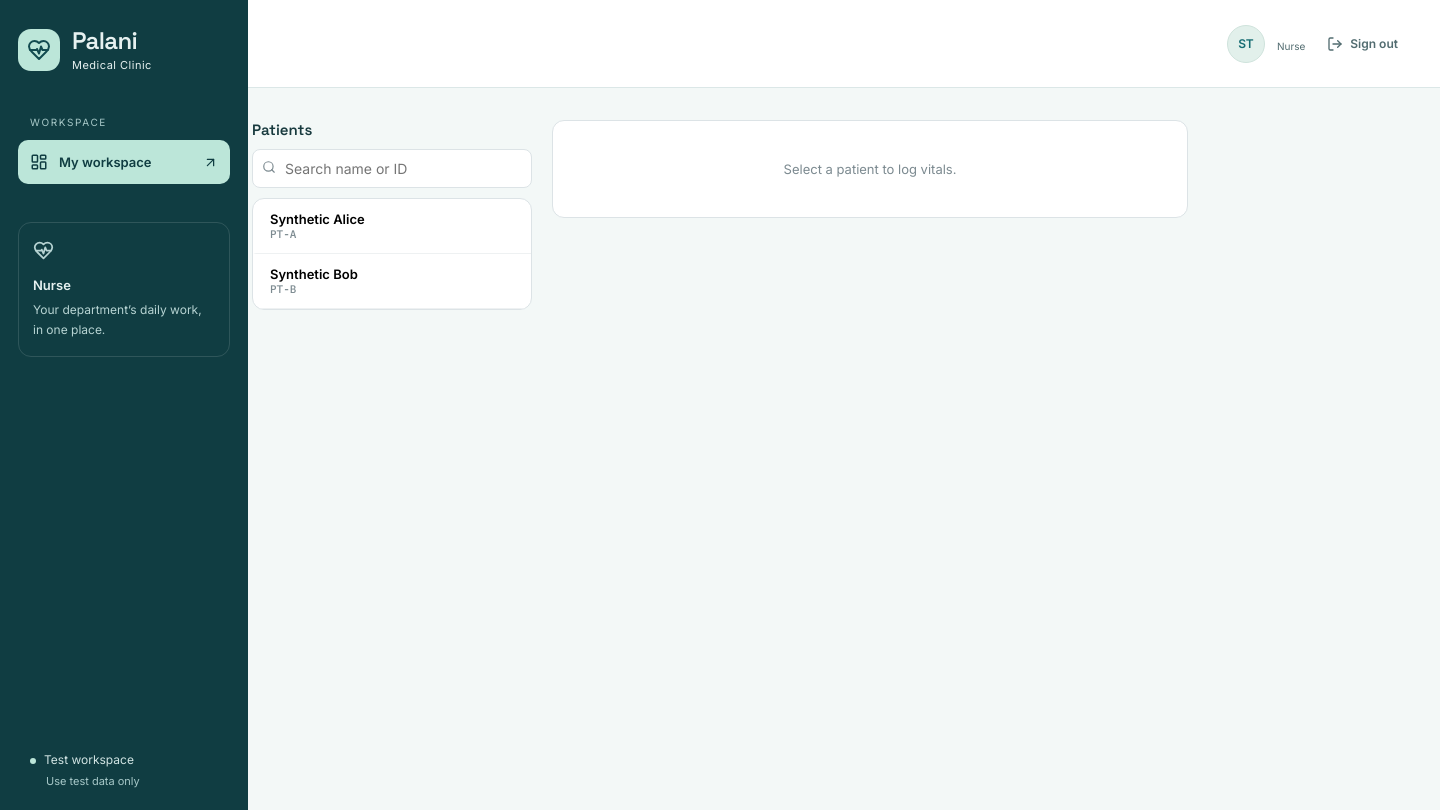
Test: discards late history for another patient
Click the button with aria-label "Select Synthetic Alice (PT-A)" at point(317, 219), box [253,199,531,254]
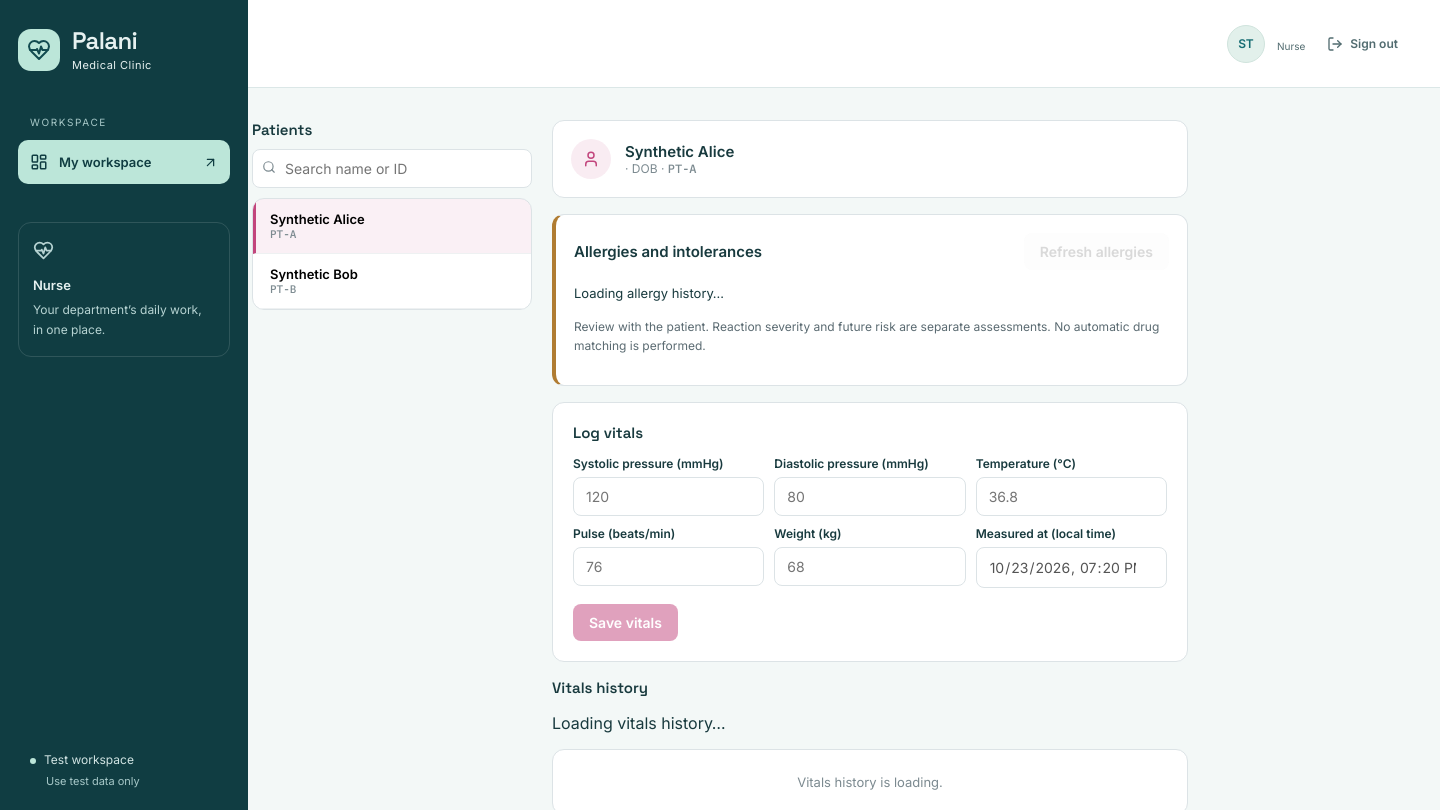
Click the button with aria-label "Select Synthetic Bob (PT-B)" at point(314, 274), box [253,254,531,309]
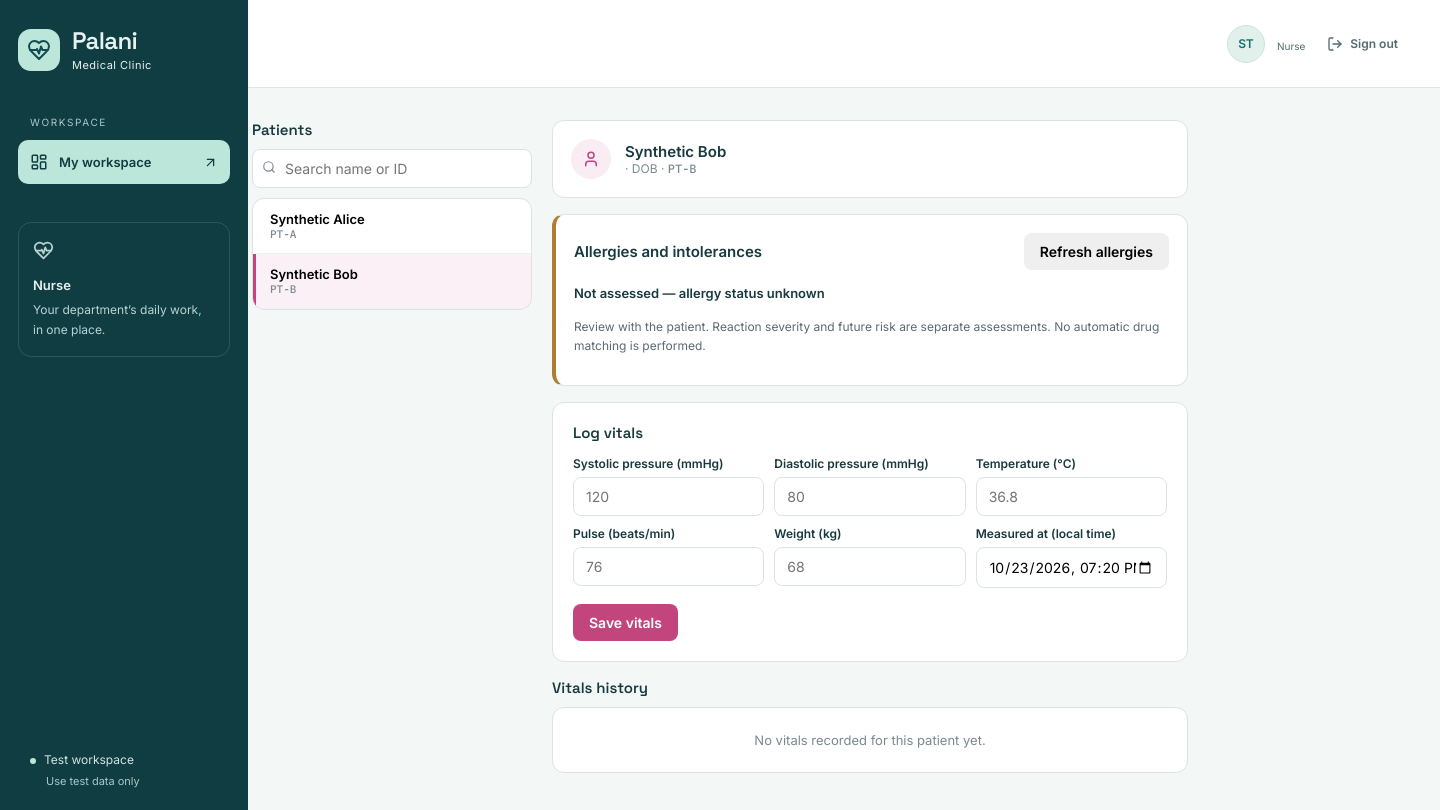
Expected: the button "Save vitals" is enabled, [573,604,678,641]
